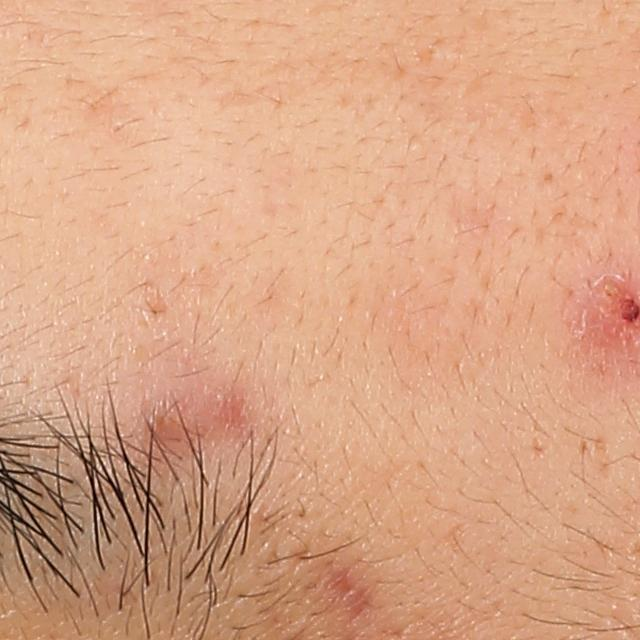papule: (139, 395, 185, 444)
